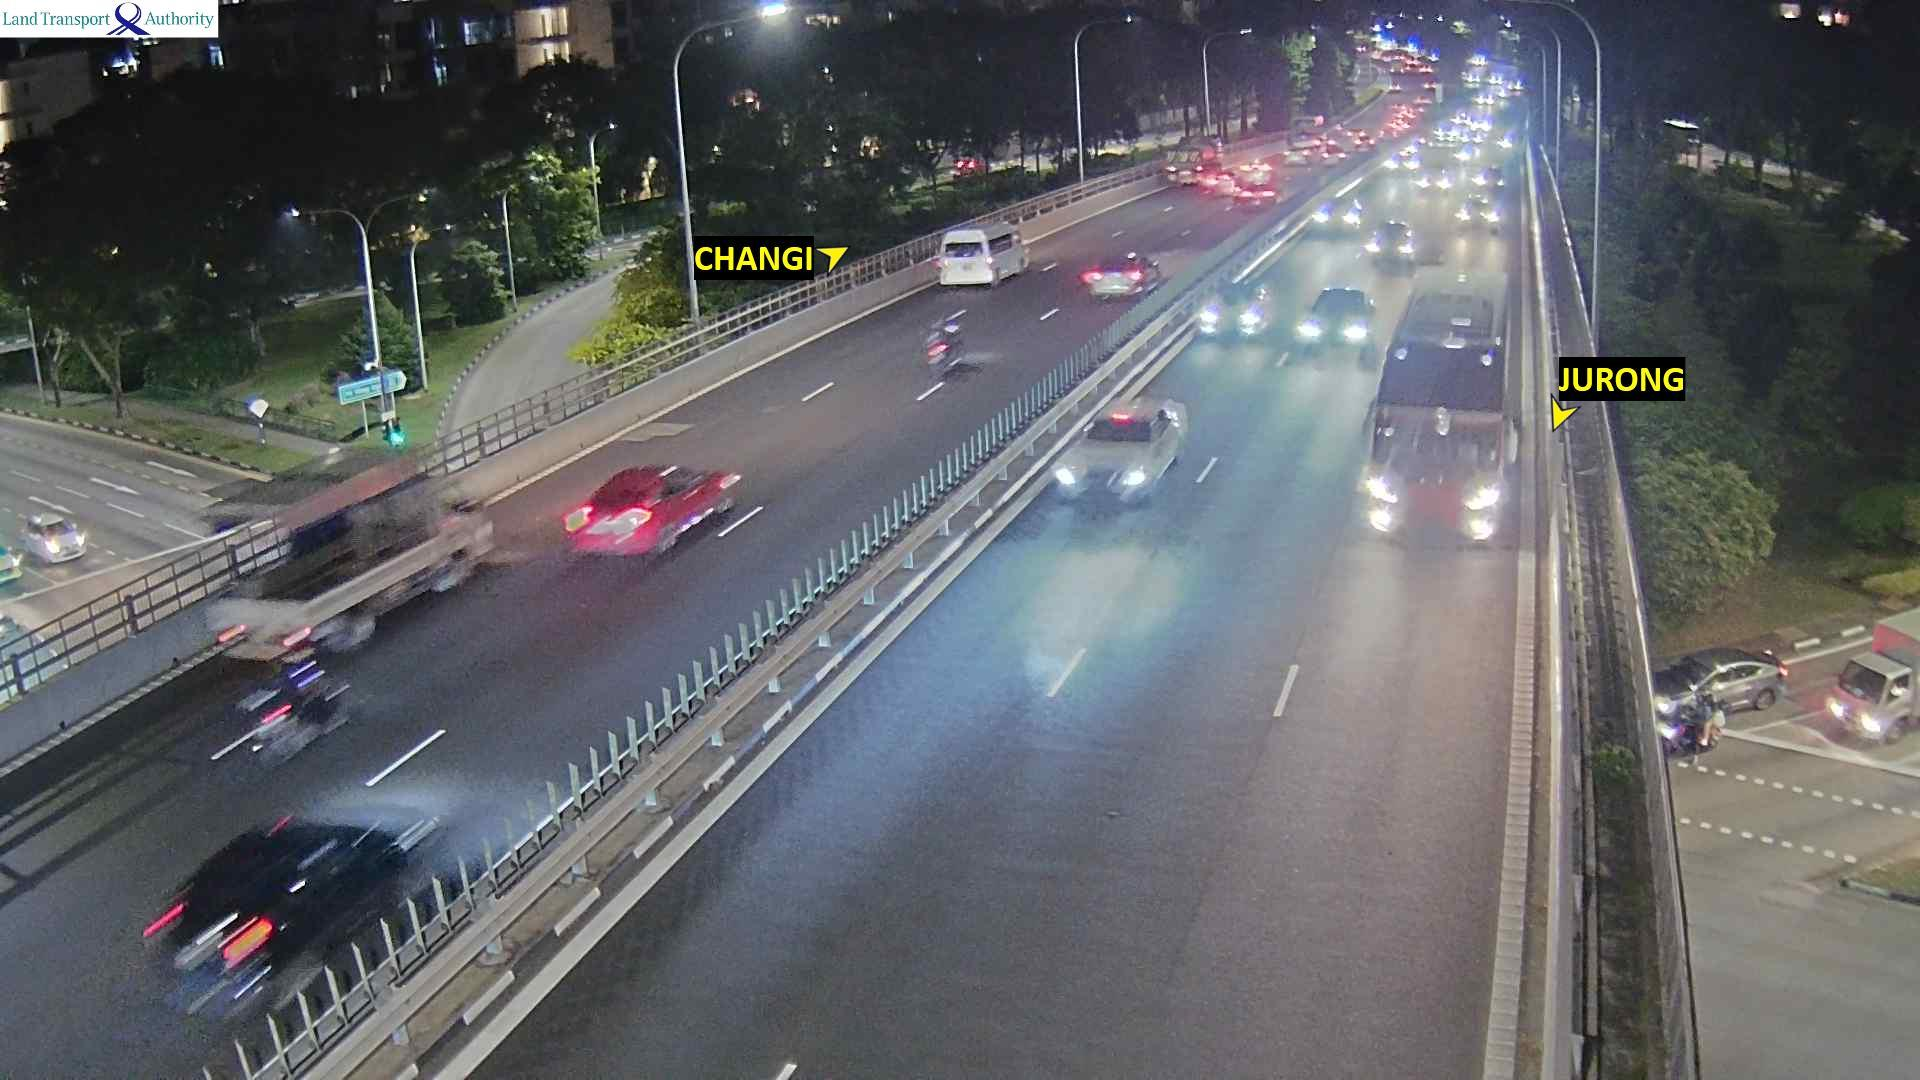incoming: (1361, 406, 1522, 542), (1058, 413, 1162, 515), (1301, 291, 1377, 360), (1196, 288, 1264, 342), (1366, 224, 1416, 265), (1315, 194, 1359, 236), (1457, 194, 1496, 228), (1416, 167, 1453, 194), (1387, 149, 1418, 174), (1472, 169, 1500, 194)
